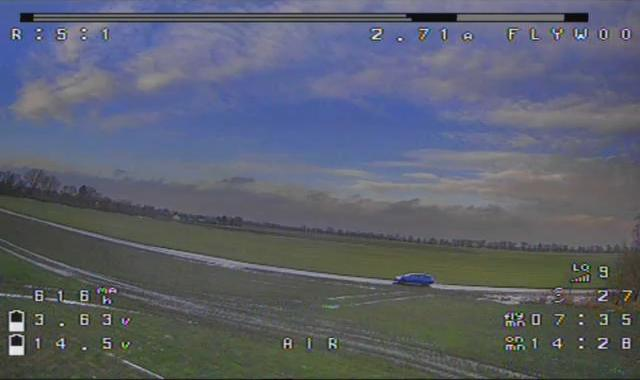car: (394, 273, 434, 285)
